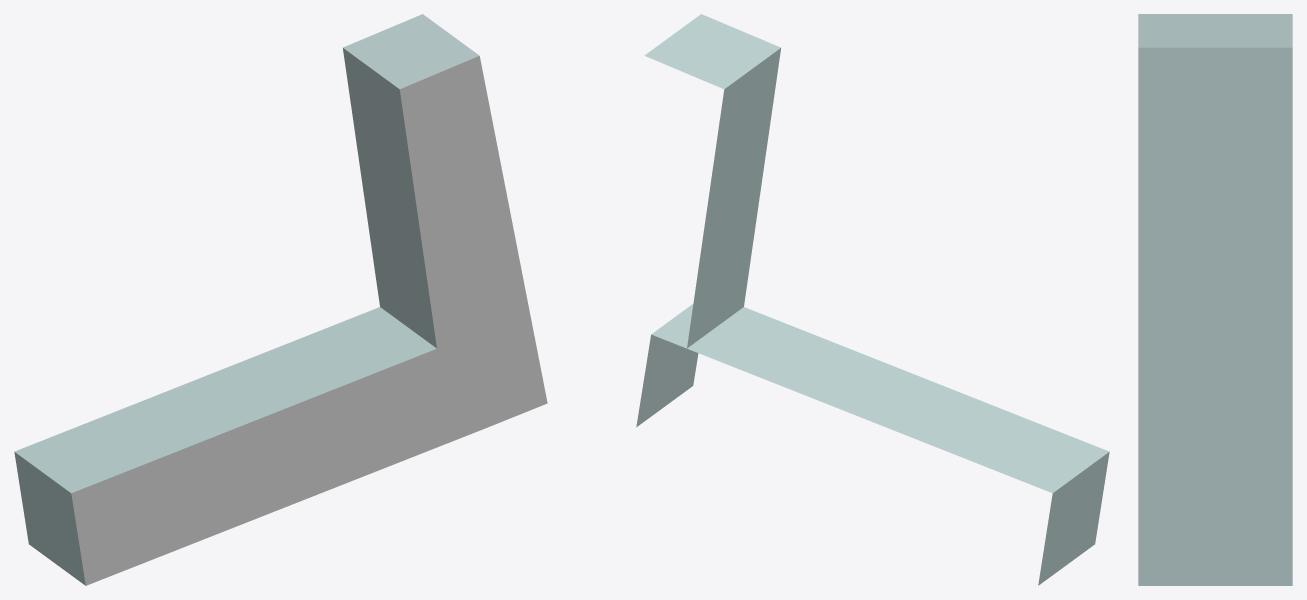
3 renders of one model, left to right at view 1: azimuth 30°, elevation 25°; view 2: azimuth 150°, elevation 25°; view 3: azimuth 270°, elevation 25°, orthographic. The views are drawn at different scales.
Parts seen in each view (by area): view 1: 0_1_2_1_3_2_0_2_1; view 2: 0_1_2_1_3_2_0_2_1; view 3: 0_1_2_1_3_2_0_2_1.
Part boxes in pixels (left/top/right/bottom): 0_1_2_1_3_2_0_2_1: left=14, top=14, right=547, bottom=585; 0_1_2_1_3_2_0_2_1: left=636, top=14, right=1109, bottom=585; 0_1_2_1_3_2_0_2_1: left=1138, top=14, right=1292, bottom=585.
Size of the model in its own units: 14.48 by 12.61 by 3.
